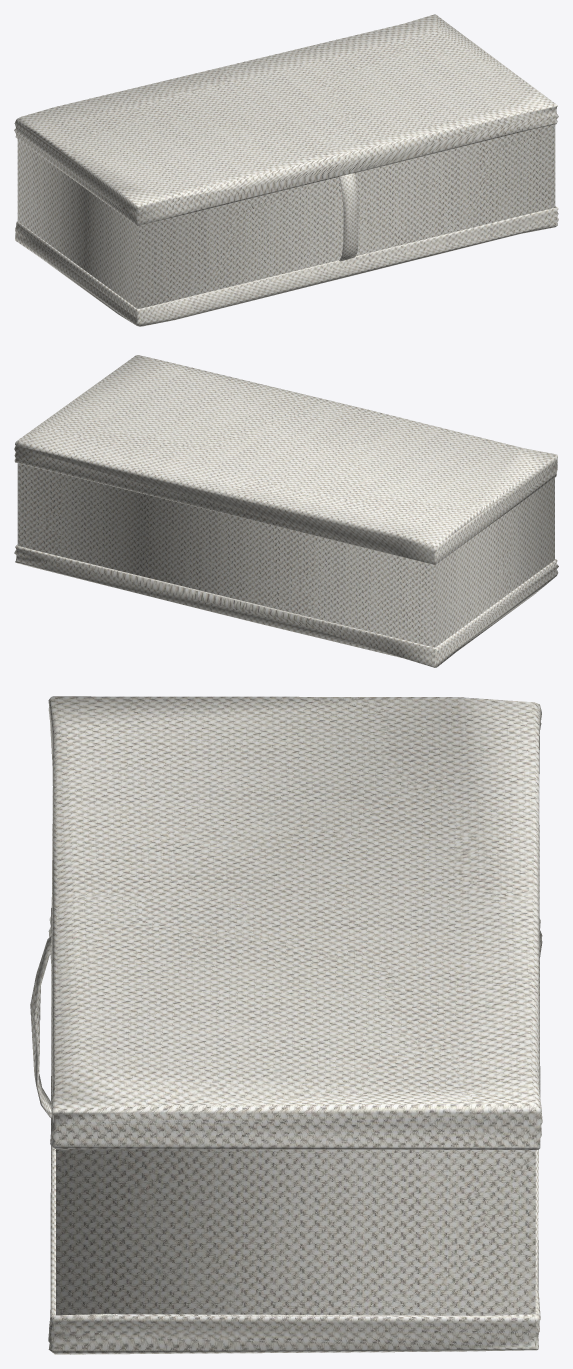
The model's file is shelf-box_white.glb.
3 views of the same model, one above another, from view 1: azimuth 30°, elevation 25°; view 2: azimuth 150°, elevation 25°; view 3: azimuth 270°, elevation 25° (orthographic). The views are drawn at different scales.
Visible parts, largest first — view 1: box_white.001; view 2: box_white.001; view 3: box_white.001.
Part boxes in pixels (x1,y1,x2,y2): box_white.001: (14, 14, 558, 326); box_white.001: (14, 355, 558, 667); box_white.001: (30, 696, 542, 1354).
Bounding box in the file's own units: 0.7334 × 0.2079 × 0.3849.
Materials: 1 (1 with a texture image).
